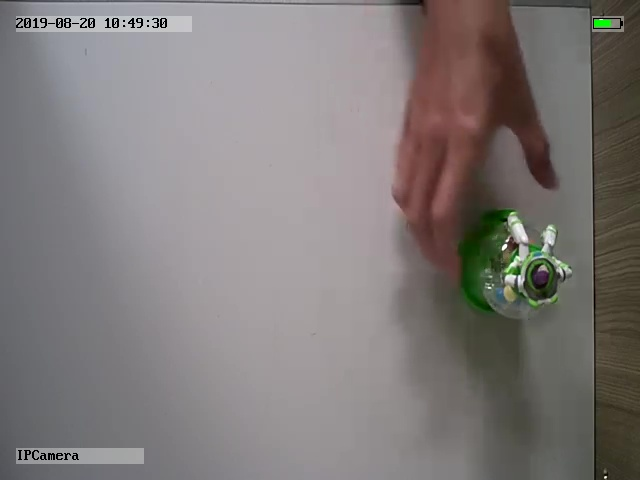buzz: (457, 208, 574, 323)
